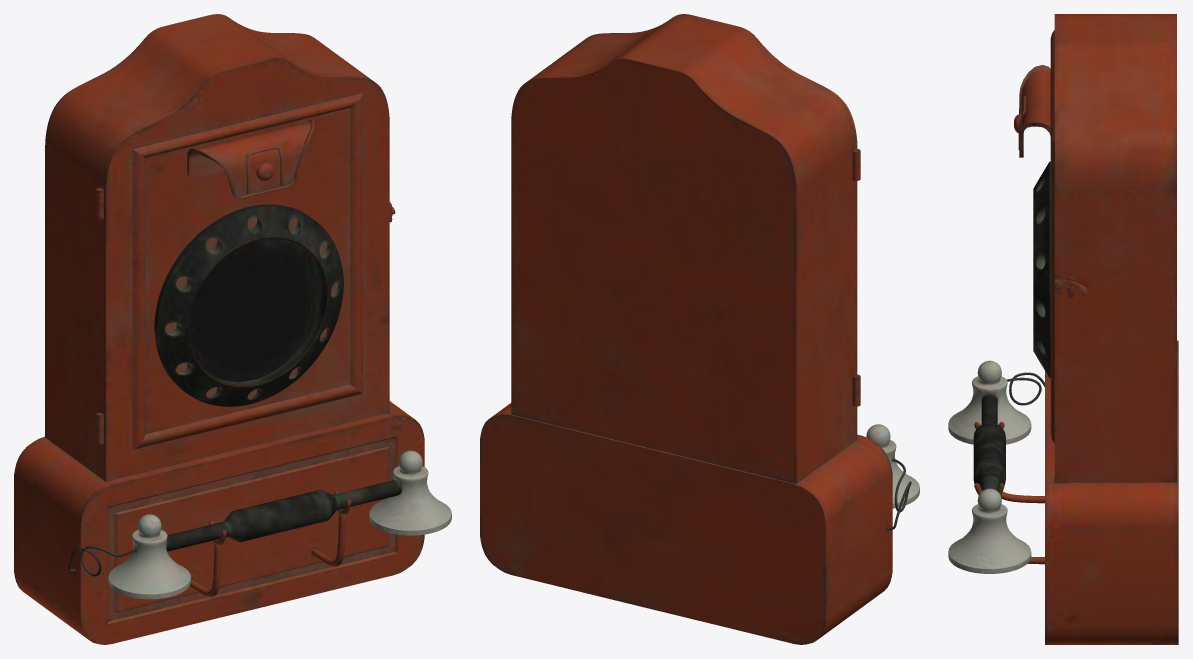
Rendered from vintage_telephone_wall_clock.gltf.
3 views of the same model, side by side, from view 1: azimuth 30°, elevation 25°; view 2: azimuth 150°, elevation 25°; view 3: azimuth 270°, elevation 25° (orthographic).
Parts seen in each view (by area): view 1: vintage_telephone_wall_clock; view 2: vintage_telephone_wall_clock; view 3: vintage_telephone_wall_clock.
Boxes of the visible parts, bbox=[...] form: vintage_telephone_wall_clock: bbox=[14, 14, 451, 644]; vintage_telephone_wall_clock: bbox=[480, 14, 919, 644]; vintage_telephone_wall_clock: bbox=[948, 14, 1178, 644].
Bounding box in the file's own units: 0.3428 × 0.5012 × 0.1926.
